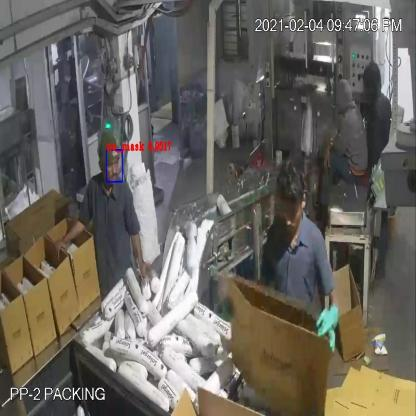glove: (315, 295, 358, 355)
no_glove: (46, 207, 89, 256), (132, 224, 148, 288)
